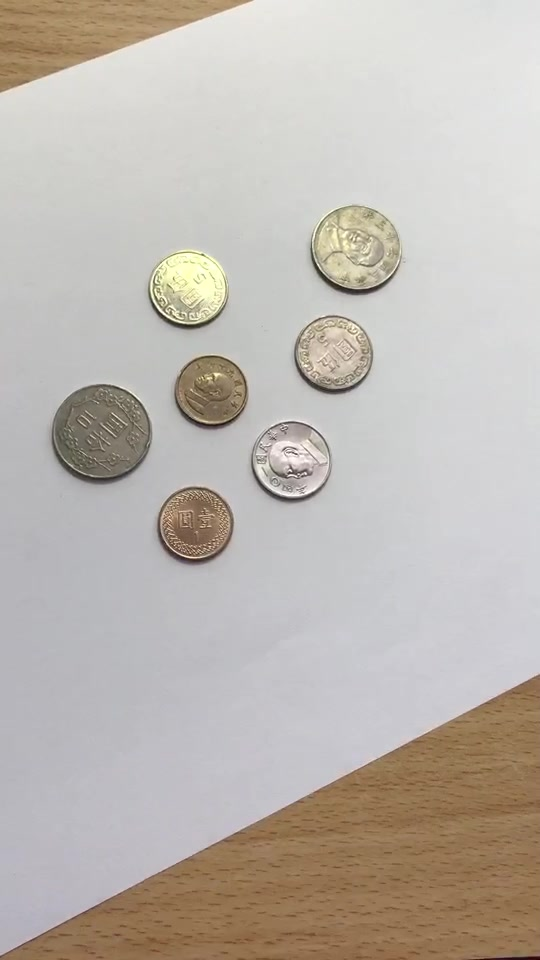1 dallar: (164, 343, 250, 436), (150, 477, 236, 570)
10 dallar: (42, 380, 154, 487), (300, 195, 412, 302)
5 dallar: (139, 245, 237, 344), (286, 294, 384, 393), (248, 407, 346, 506)
